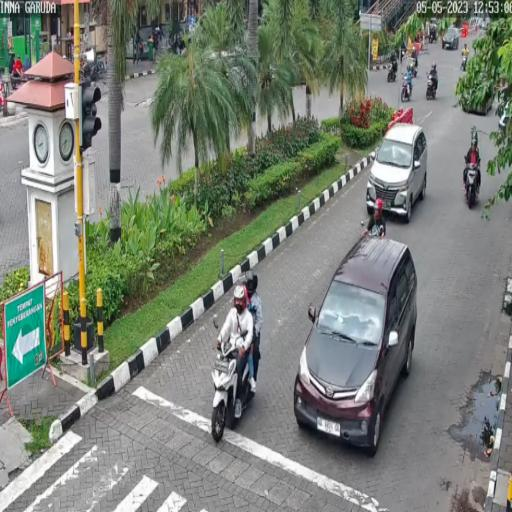mobil: (294, 232, 418, 463), (366, 121, 428, 222)
motor: (210, 310, 262, 444), (462, 153, 482, 211)
